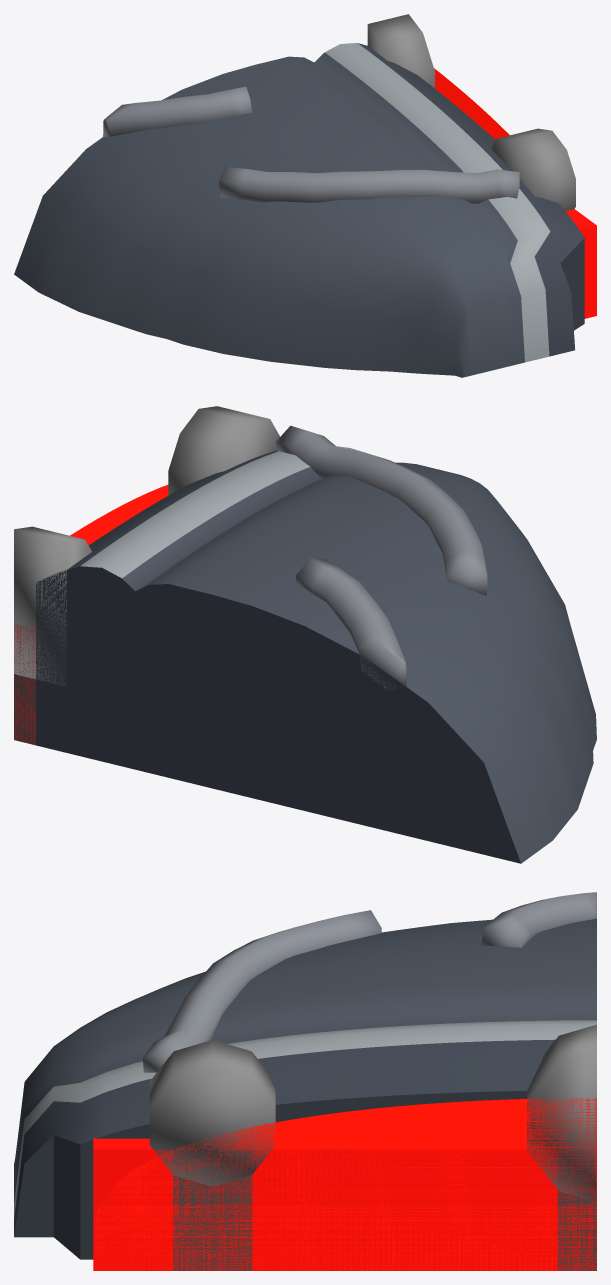
File: newsha-267.glb
3 views of the same model, one above another, from view 1: azimuth 30°, elevation 25°; view 2: azimuth 150°, elevation 25°; view 3: azimuth 270°, elevation 25° (orthographic). The views are drawn at different scales.
Visible parts, largest first — view 1: newsha-267; view 2: newsha-267; view 3: newsha-267.
Part boxes in pixels (<box>): newsha-267: <box>14,14,596,377</box>; newsha-267: <box>14,406,596,863</box>; newsha-267: <box>14,892,596,1270</box>.
Size of the model in its own units: 1.92 by 0.7633 by 1.83.
